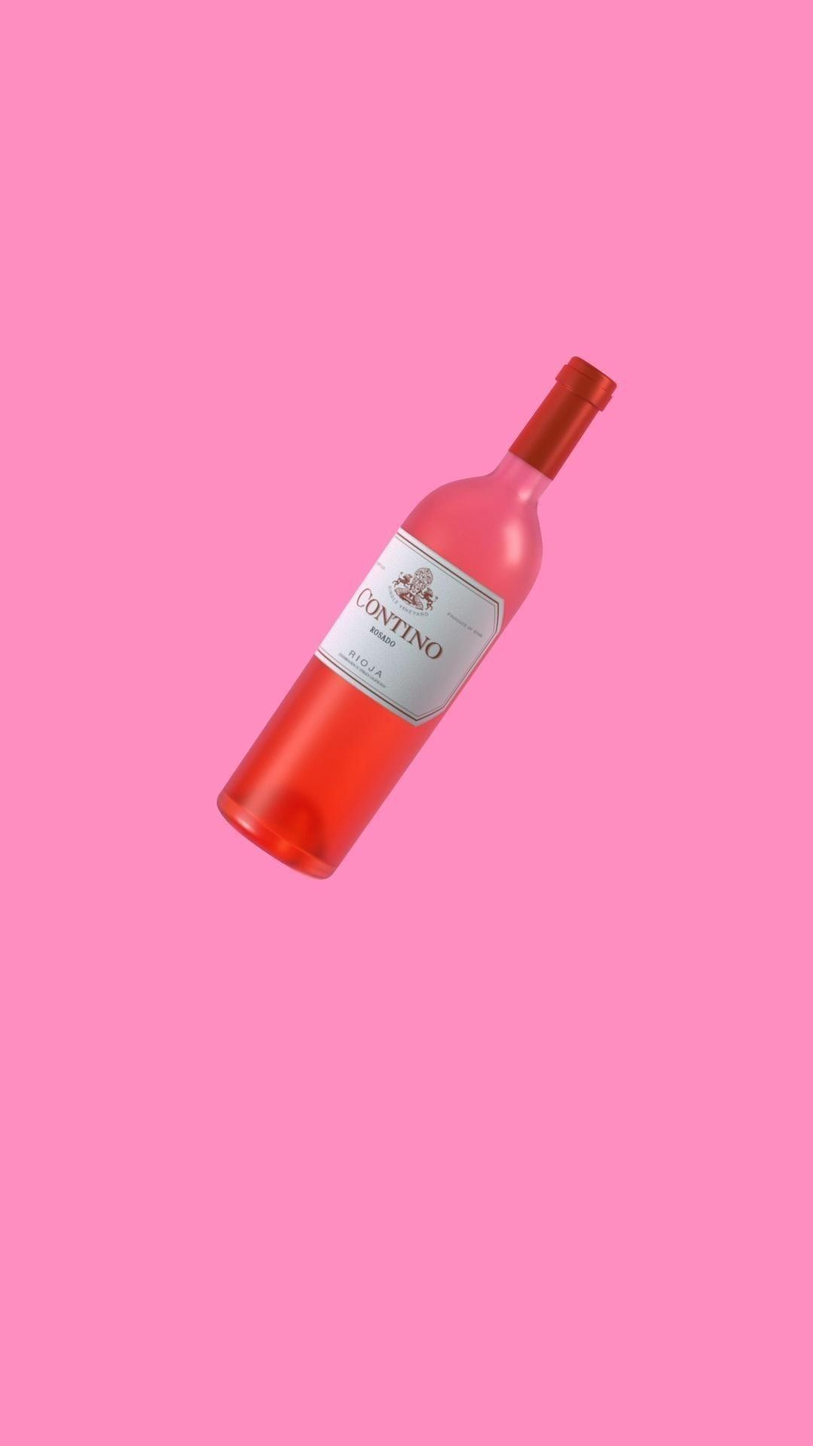bottle-glass: (216, 350, 617, 880)
